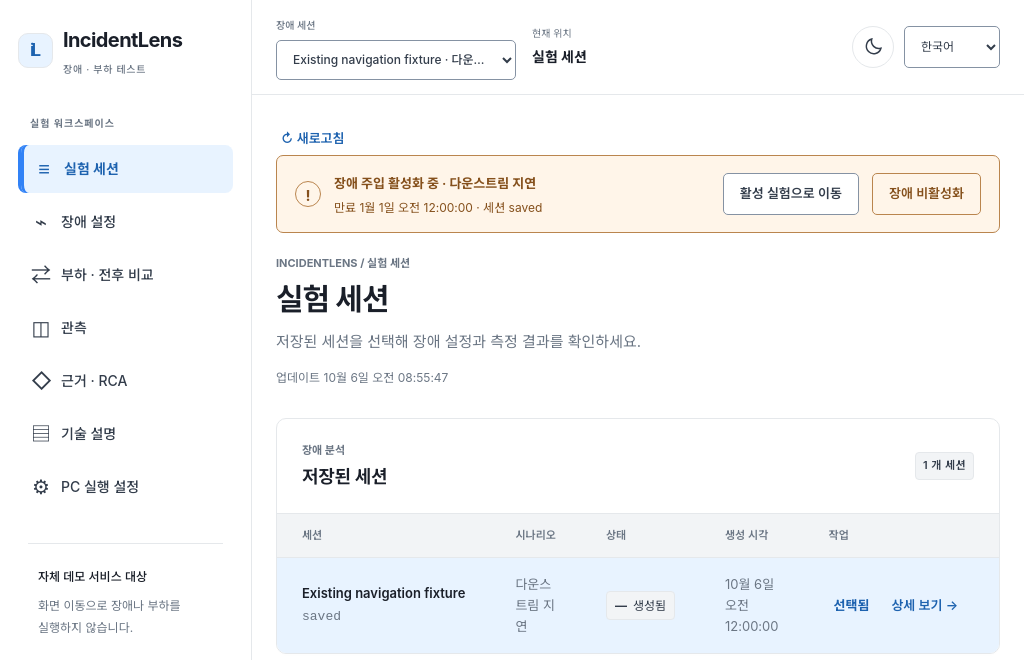
Test: normalizes legacy home URLs and makes the logo return to sessions without extra history
This screenshot has width=1024, height=660.
Click the button "▤ 기술 설명" at (126, 434), box 18,410 -> 233,458
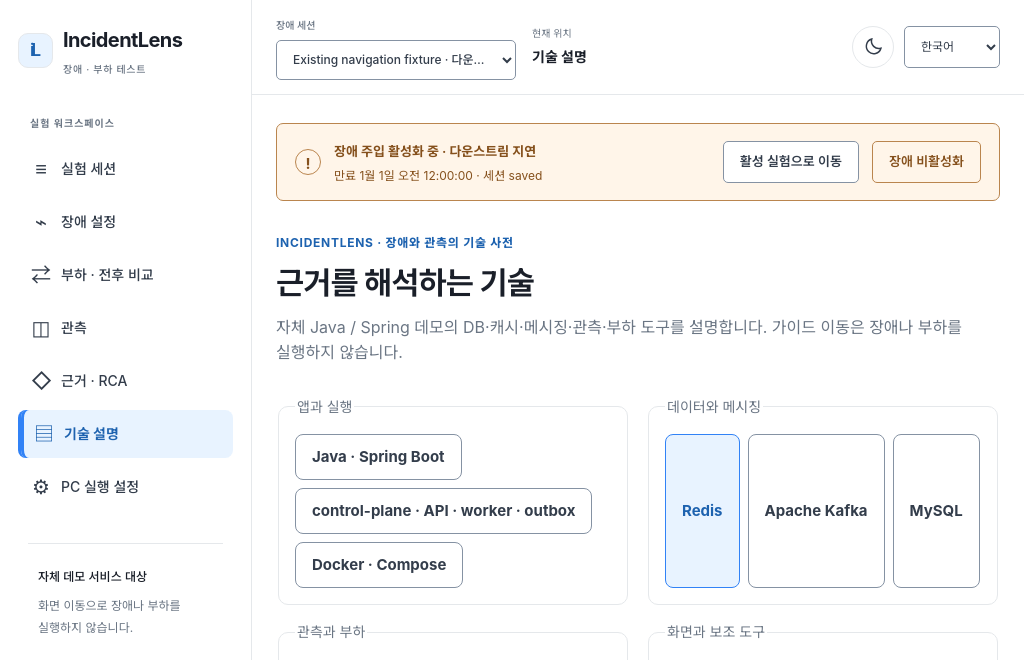
Click the link with aria-label "IncidentLens 실험 세션" at (100, 50), box 18,24 -> 182,77
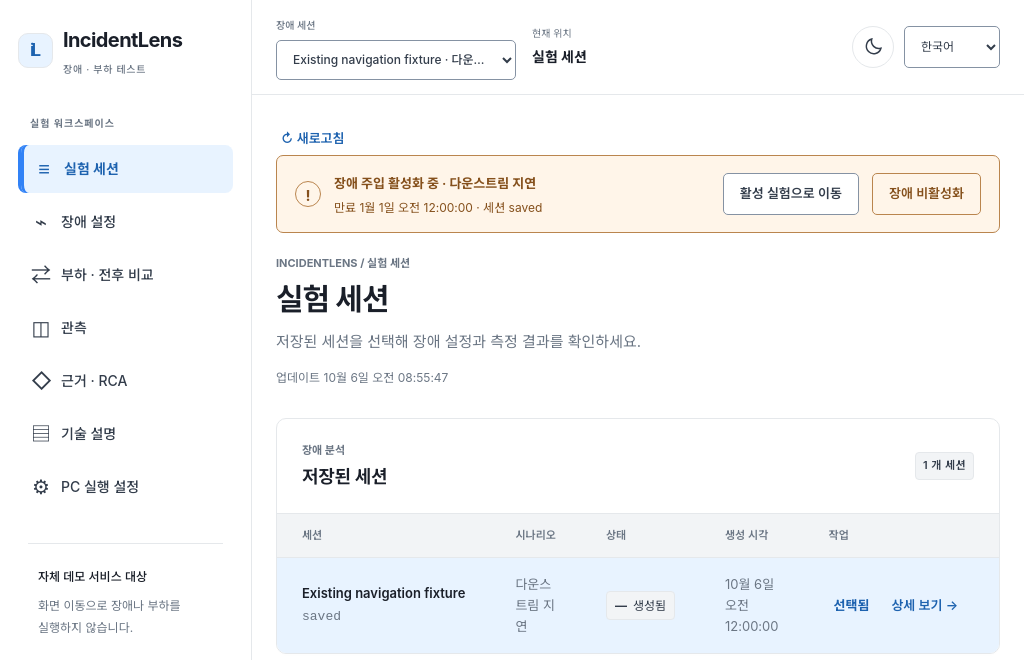
expect the heading "실험 세션" is shown: met, box 276,281 -> 388,317
